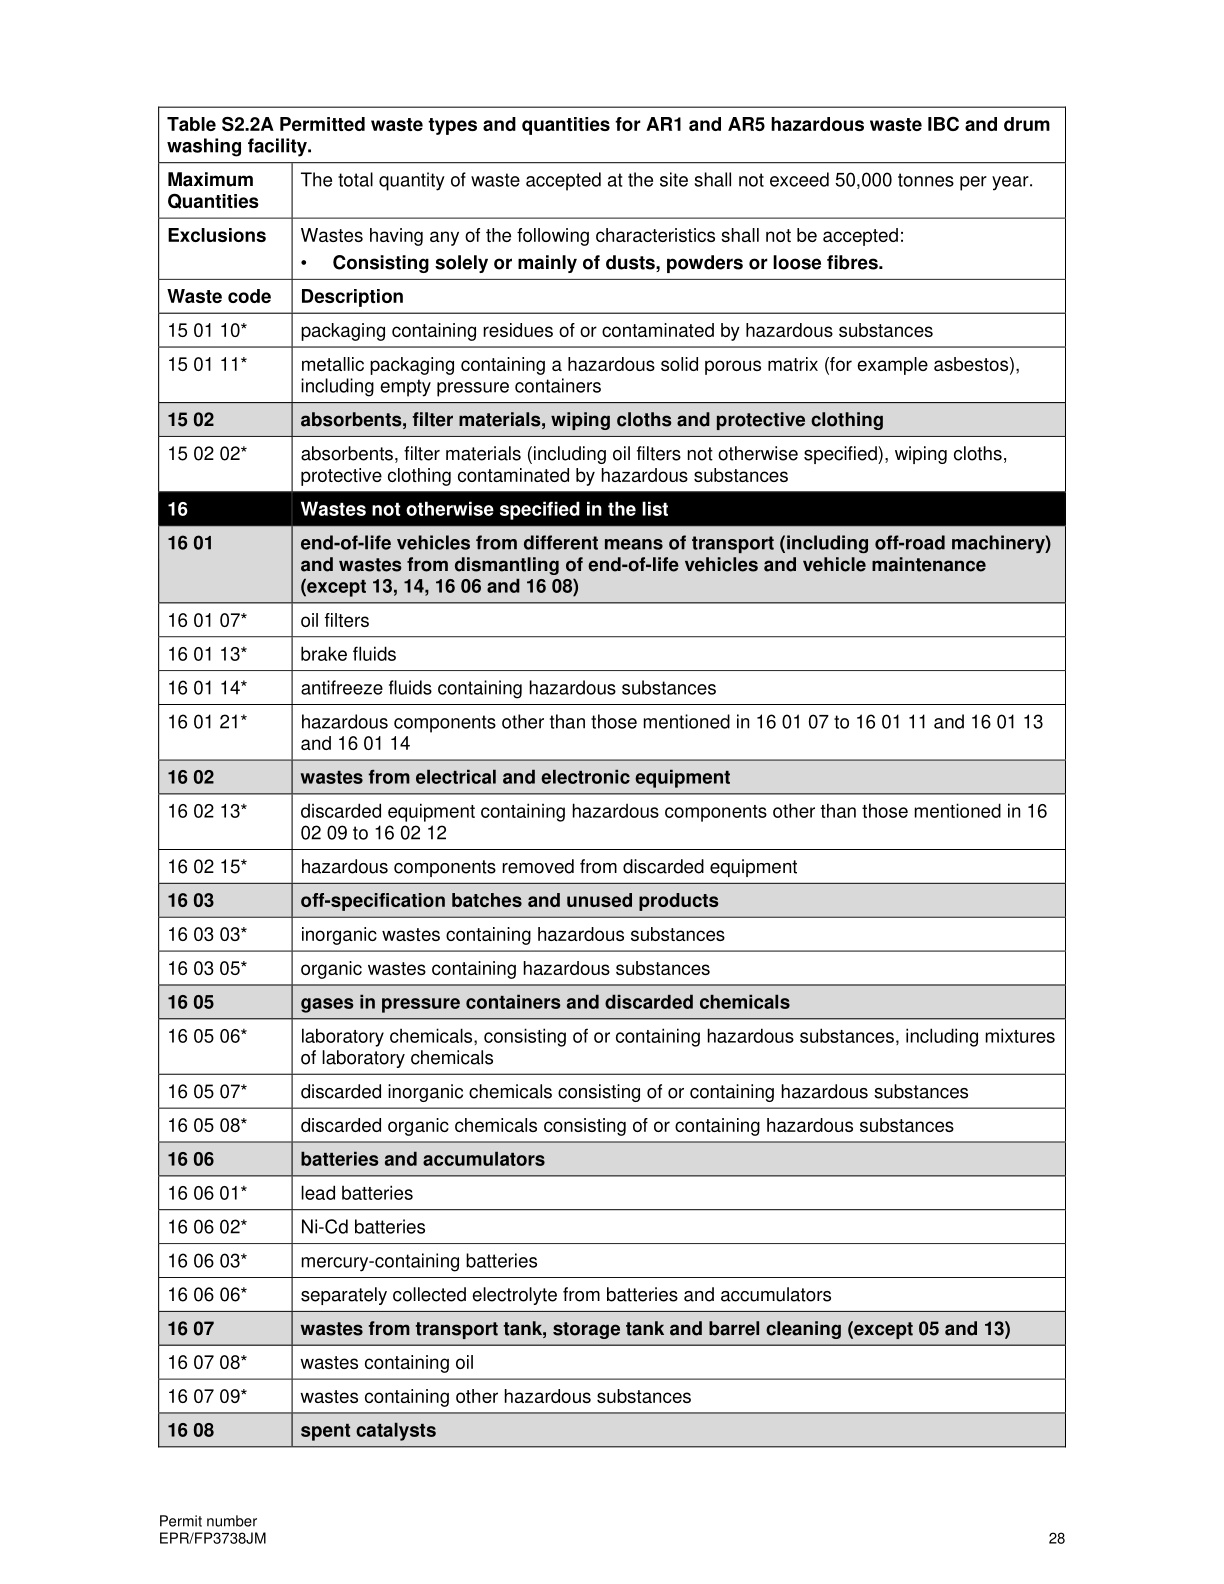merged_cells: (157, 105, 1067, 1448)
